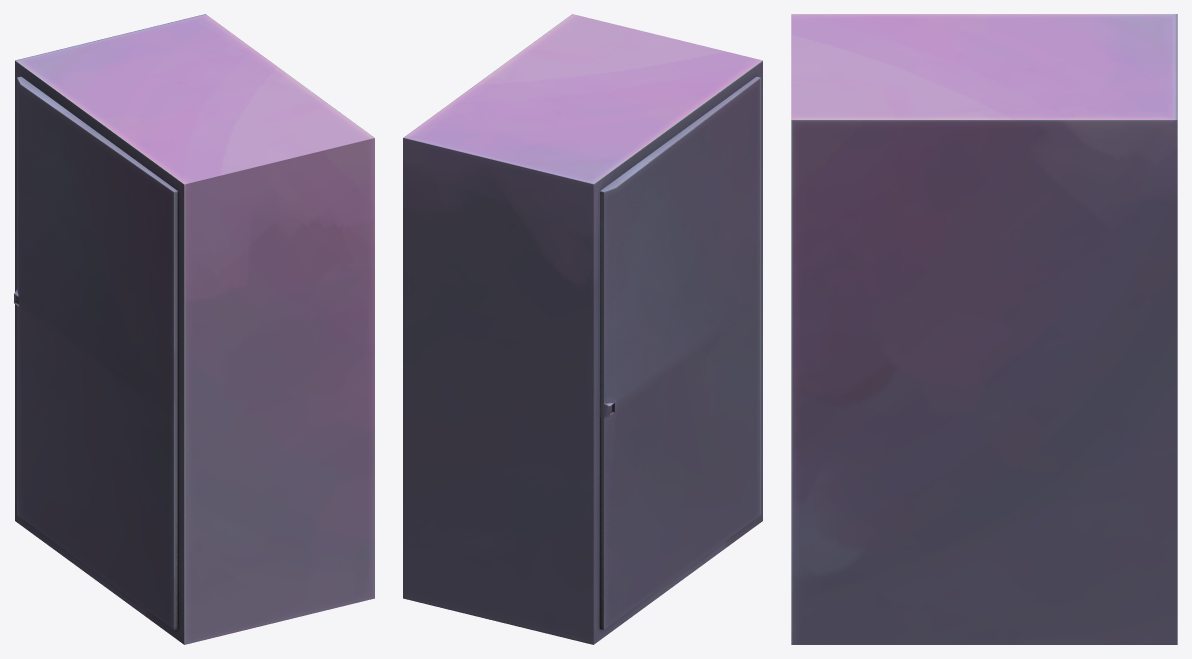
File: pip2_fusebox_bm.fbx
3 renders of one model, left to right at view 1: azimuth 30°, elevation 25°; view 2: azimuth 150°, elevation 25°; view 3: azimuth 270°, elevation 25°, orthographic. The views are drawn at different scales.
Parts seen in each view (by area): view 1: fusebox; view 2: fusebox; view 3: fusebox.
Boxes of the visible parts, x1,y1,x2,y2 form: fusebox: [14, 14, 374, 644]; fusebox: [403, 14, 762, 644]; fusebox: [791, 14, 1177, 644].
Bounding box in the file's own units: 13.59 × 30 × 20.
1 material, 1 textured.
